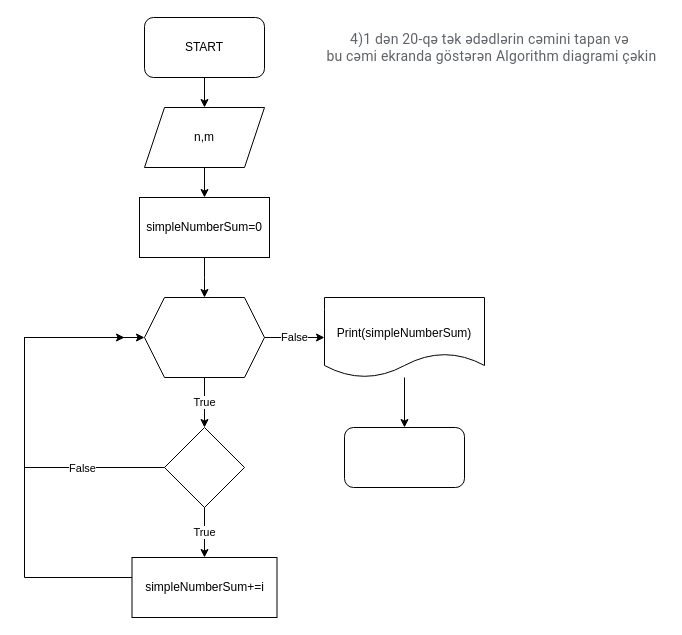
The diagram is 682 pixels wide and 635 high, and some of its shapes have lost their labels. Here are the shapes that lost their labels. From the top down, the box of each, then its label:
(144, 296, 264, 378): i=n; i<m; i++;
(164, 426, 244, 508): i%2!=0
(344, 426, 464, 488): STOP
